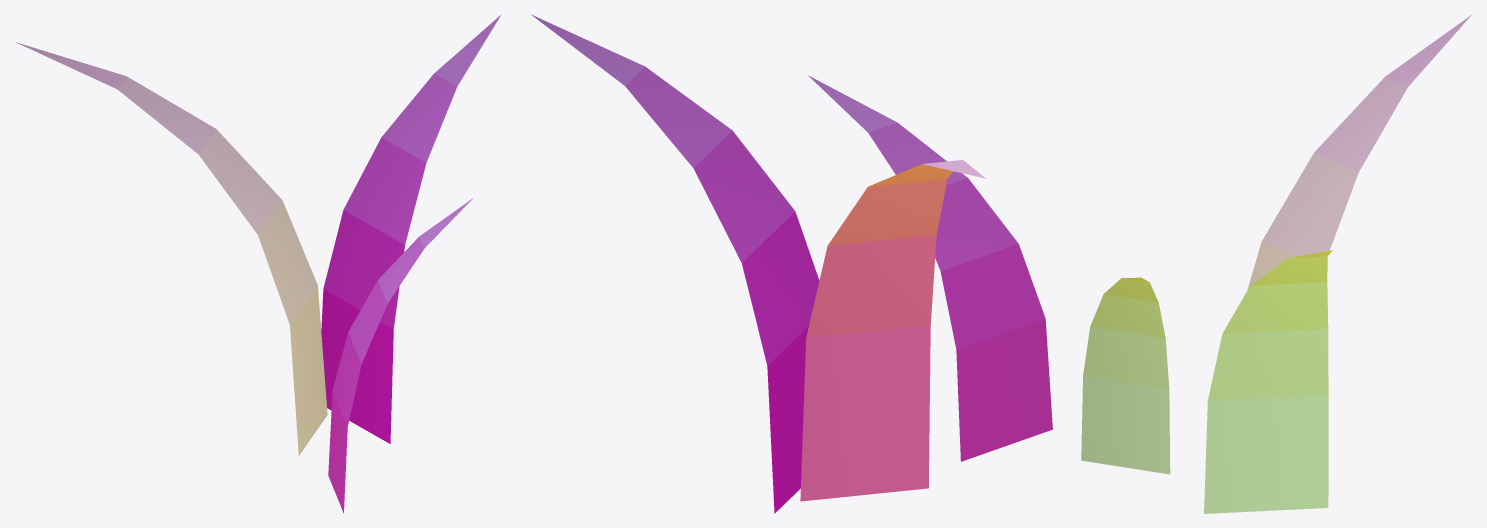
The model's file is grass_iso_edge.gltf.
3 renders of one model, left to right at view 1: azimuth 30°, elevation 25°; view 2: azimuth 150°, elevation 25°; view 3: azimuth 270°, elevation 25°, orthographic. The views are drawn at different scales.
Parts seen in each view (by area): view 1: grass_iso_edge; view 2: grass_iso_edge; view 3: grass_iso_edge.
Boxes of the visible parts, box(x1,y1,x2,y2) form: grass_iso_edge: box(16, 14, 501, 513); grass_iso_edge: box(531, 14, 1052, 513); grass_iso_edge: box(1081, 14, 1472, 513).
Bounding box in the file's own units: 0.316 × 0.2638 × 0.2484.
